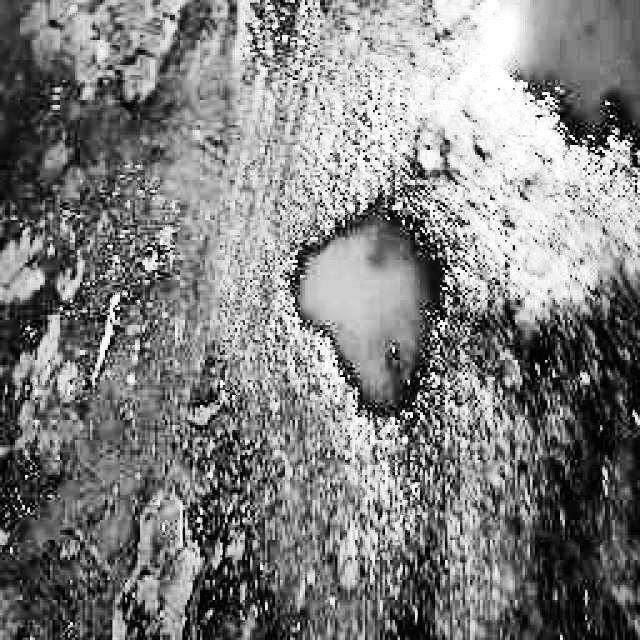Pothole: (280, 196, 457, 425), (474, 0, 640, 176)
